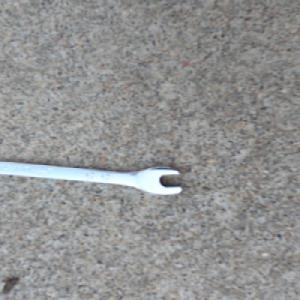Wrench: (0, 159, 187, 196)
